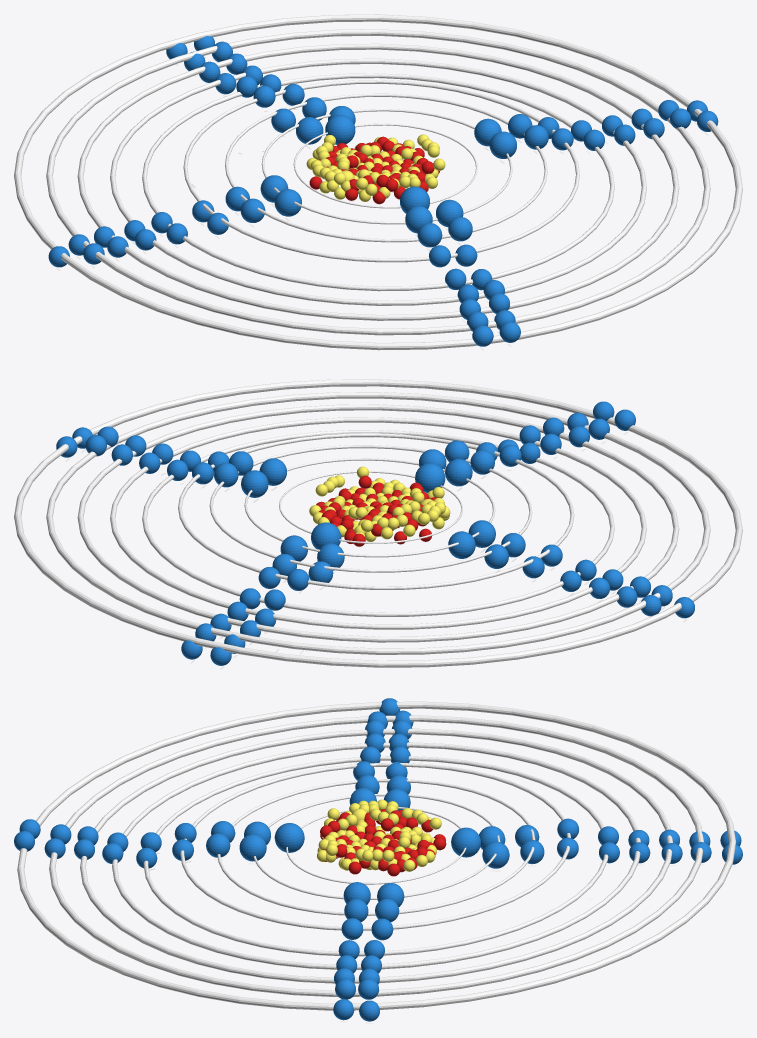
3 views of the same model, one above another, from view 1: azimuth 30°, elevation 25°; view 2: azimuth 150°, elevation 25°; view 3: azimuth 270°, elevation 25° (orthographic).
Visible parts, largest first — view 1: Torus.009, Torus.008, Torus.007, Torus.006, Torus.005, Torus.004, Torus.003, Torus.002, Torus.001, g, g.005, g.003 (+2 smaller); view 2: Torus.009, Torus.008, Torus.007, Torus.006, Torus.005, Torus.004, Torus.003, Torus.002, Torus.001, g.001, g, g.006 (+7 smaller); view 3: Torus.009, Torus.008, Torus.007, Torus.006, Torus.005, Torus.004, Torus.003, Torus.002, g.001, g, Torus.001, g.007 (+1 smaller).
Boxes of the visible parts, x1=… form: Torus.009: x1=14, y1=14, x2=742, y2=350; Torus.008: x1=46, y1=29, x2=710, y2=335; Torus.007: x1=77, y1=43, x2=679, y2=320; Torus.006: x1=110, y1=58, x2=646, y2=305; Torus.005: x1=142, y1=73, x2=614, y2=291; Torus.004: x1=183, y1=80, x2=579, y2=262; Torus.003: x1=225, y1=93, x2=547, y2=242; Torus.002: x1=261, y1=109, x2=512, y2=224; Torus.001: x1=293, y1=123, x2=477, y2=208; g: x1=325, y1=115, x2=355, y2=144; g.005: x1=489, y1=131, x2=516, y2=158; g.003: x1=274, y1=189, x2=301, y2=216; Torus.009: x1=14, y1=379, x2=742, y2=667; Torus.008: x1=46, y1=392, x2=710, y2=654; Torus.007: x1=77, y1=404, x2=679, y2=642; Torus.006: x1=110, y1=417, x2=646, y2=629; Torus.005: x1=142, y1=430, x2=614, y2=616; Torus.004: x1=178, y1=433, x2=574, y2=589; Torus.003: x1=209, y1=445, x2=532, y2=572; Torus.002: x1=244, y1=458, x2=495, y2=557; Torus.001: x1=279, y1=471, x2=462, y2=543; g.001: x1=415, y1=463, x2=445, y2=492; g: x1=311, y1=522, x2=341, y2=549; g.006: x1=445, y1=458, x2=472, y2=486; Torus.009: x1=17, y1=701, x2=735, y2=1010; Torus.008: x1=49, y1=715, x2=703, y2=996; Torus.007: x1=80, y1=728, x2=672, y2=983; Torus.006: x1=112, y1=742, x2=640, y2=969; Torus.005: x1=143, y1=756, x2=608, y2=956; Torus.004: x1=180, y1=763, x2=570, y2=930; Torus.003: x1=217, y1=779, x2=535, y2=915; Torus.002: x1=253, y1=793, x2=500, y2=899; g.001: x1=274, y1=823, x2=304, y2=852; g: x1=451, y1=827, x2=480, y2=857; Torus.001: x1=286, y1=807, x2=466, y2=884; g.007: x1=239, y1=834, x2=266, y2=861.
Bounding box in the file's own units: 24.35 × 2.85 × 24.11.
